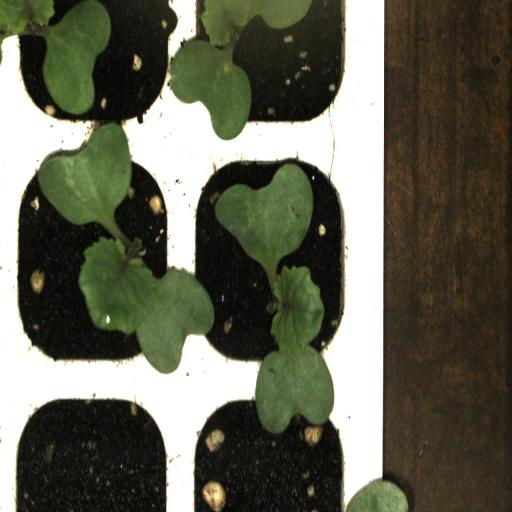Folha: (345, 479, 410, 512)
Germinacao: (182, 138, 361, 373), (11, 137, 181, 375), (185, 0, 358, 133), (6, 0, 180, 131)
